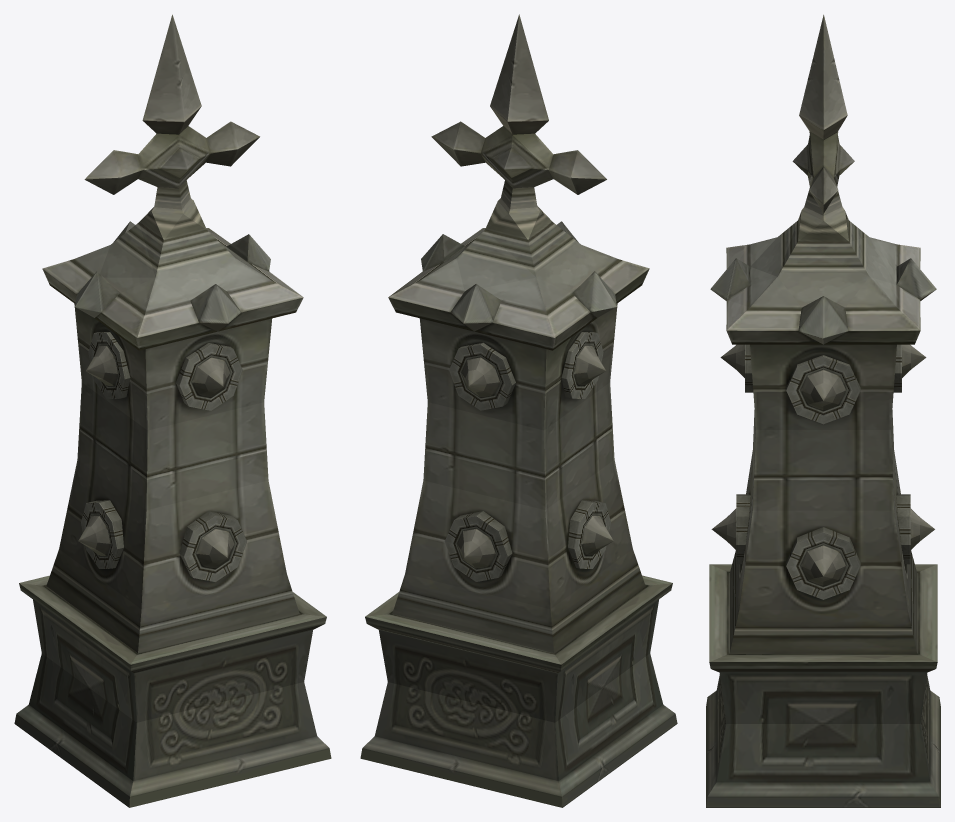
Rendered from ironfence.FBX.
3 views of the same model, side by side, from view 1: azimuth 30°, elevation 25°; view 2: azimuth 150°, elevation 25°; view 3: azimuth 270°, elevation 25° (orthographic). The views are drawn at different scales.
Parts seen in each view (by area): view 1: ironfence; view 2: ironfence; view 3: ironfence.
Part boxes in pixels (x1,y1,x2,y2): ironfence: [14, 14, 331, 807]; ironfence: [360, 14, 677, 807]; ironfence: [706, 14, 940, 807].
Size of the model in its own units: 78.99 by 272 by 77.81.
